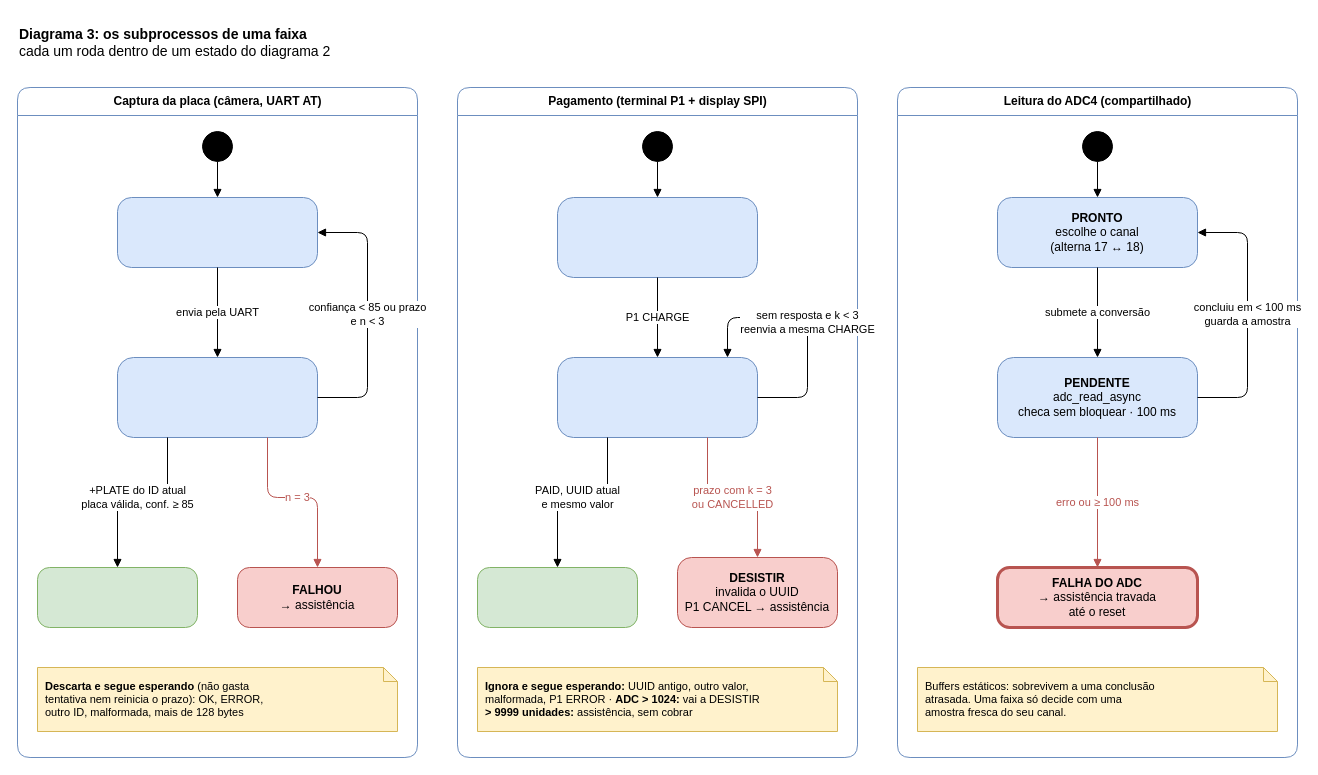
This 1318x775 diagram has some shape labels left out. The centre of each missing label's shape, as x and y in pixels:
AGUARDANDO RESULTADO envio k de 3 prazo 1000 ms: (657,397)
ESPERANDO RESPOSTA monta a linha (até 128 B) prazo 1000 ms: (217,397)
PAGO → abrir a cancela: (557,597)
PEDIR AT+CAPTURE=<ID novo> tentativa n + 1: (217,232)
PLACA ACEITA volta ao diagrama 2: (117,597)
PREPARAR desenha placa · congela tarifa UUID novo · desenha valor: (657,237)
